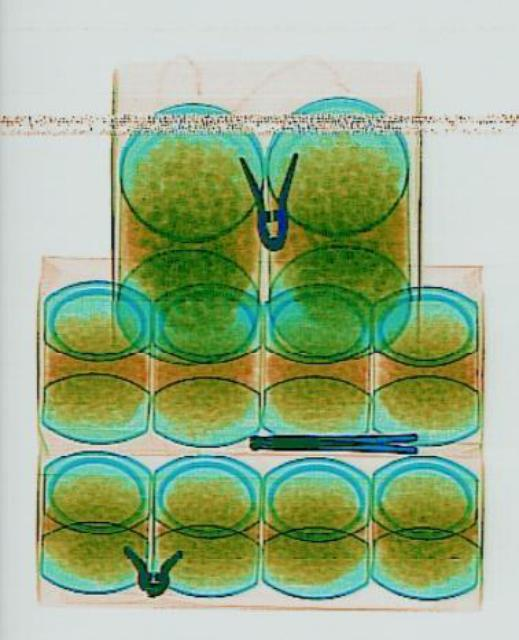Pliers: (238, 150, 301, 250), (248, 430, 415, 450)
